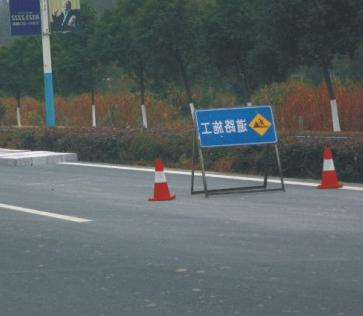sign: (196, 103, 275, 148)
